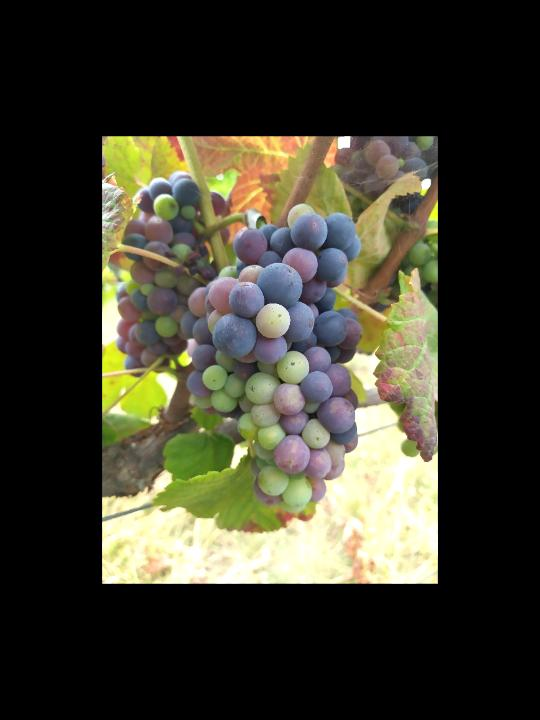grape: (184, 202, 363, 515)
